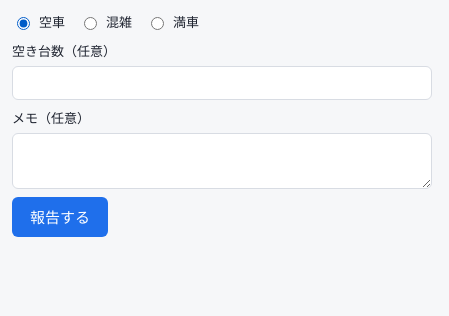
Test: ReportForm › surfaces a failure and keeps the form usable
What coordinates should you click on to do the following:
click the button "報告する"
I would click on:
 (60, 217)
Its box is [12,197,108,237].
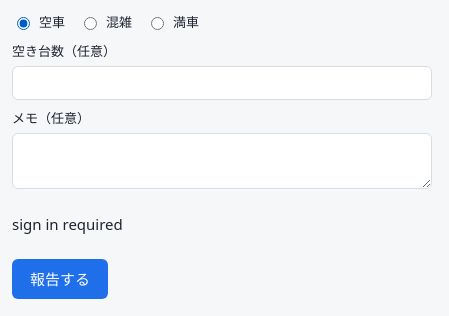
Expected: the button "報告する" is enabled, [12,259,108,299]
Expected: the message reads "sign in required", [12,214,123,234]
